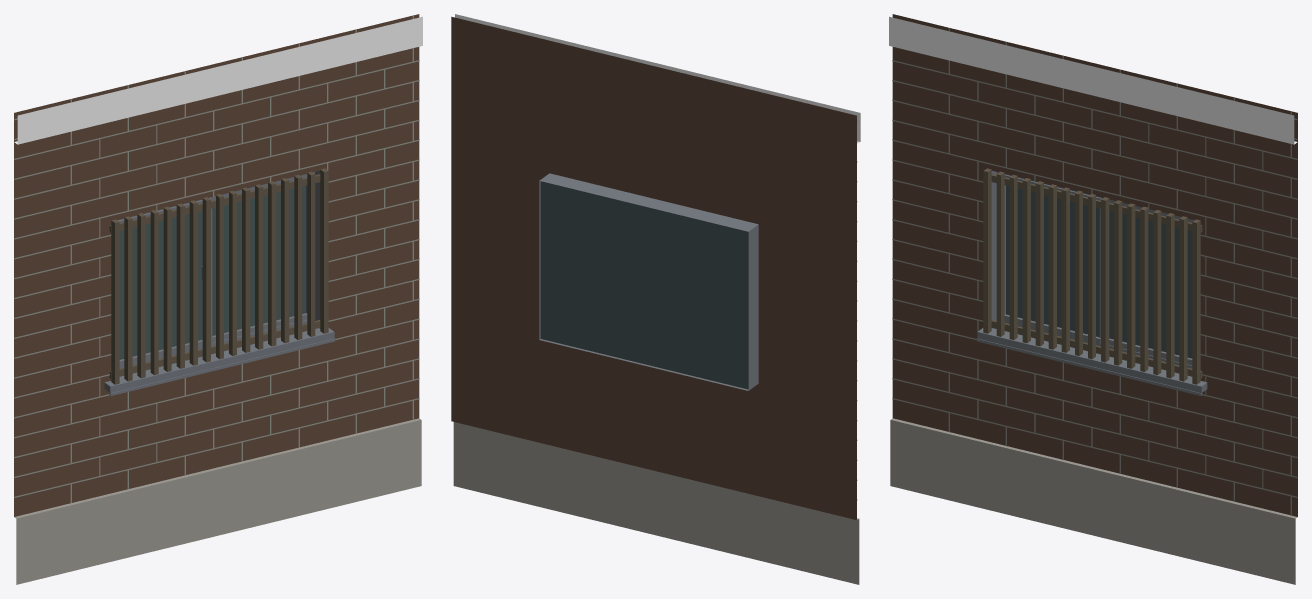
The model's file is base-w1_close.fbx.
The picture shows the model from 3 angles, left to right: view 1: azimuth 30°, elevation 25°; view 2: azimuth 150°, elevation 25°; view 3: azimuth 330°, elevation 25°; orthographic projection.
Parts seen in each view (by area): view 1: a2000s3/800/base-w1_close; view 2: a2000s3/800/base-w1_close; view 3: a2000s3/800/base-w1_close.
Part boxes in pixels (x1,y1,x2,y2): a2000s3/800/base-w1_close: (14,14,422,584); a2000s3/800/base-w1_close: (451,14,860,584); a2000s3/800/base-w1_close: (889,14,1297,584).
Bounding box in the file's own units: 3.2 × 3.55 × 0.225.
